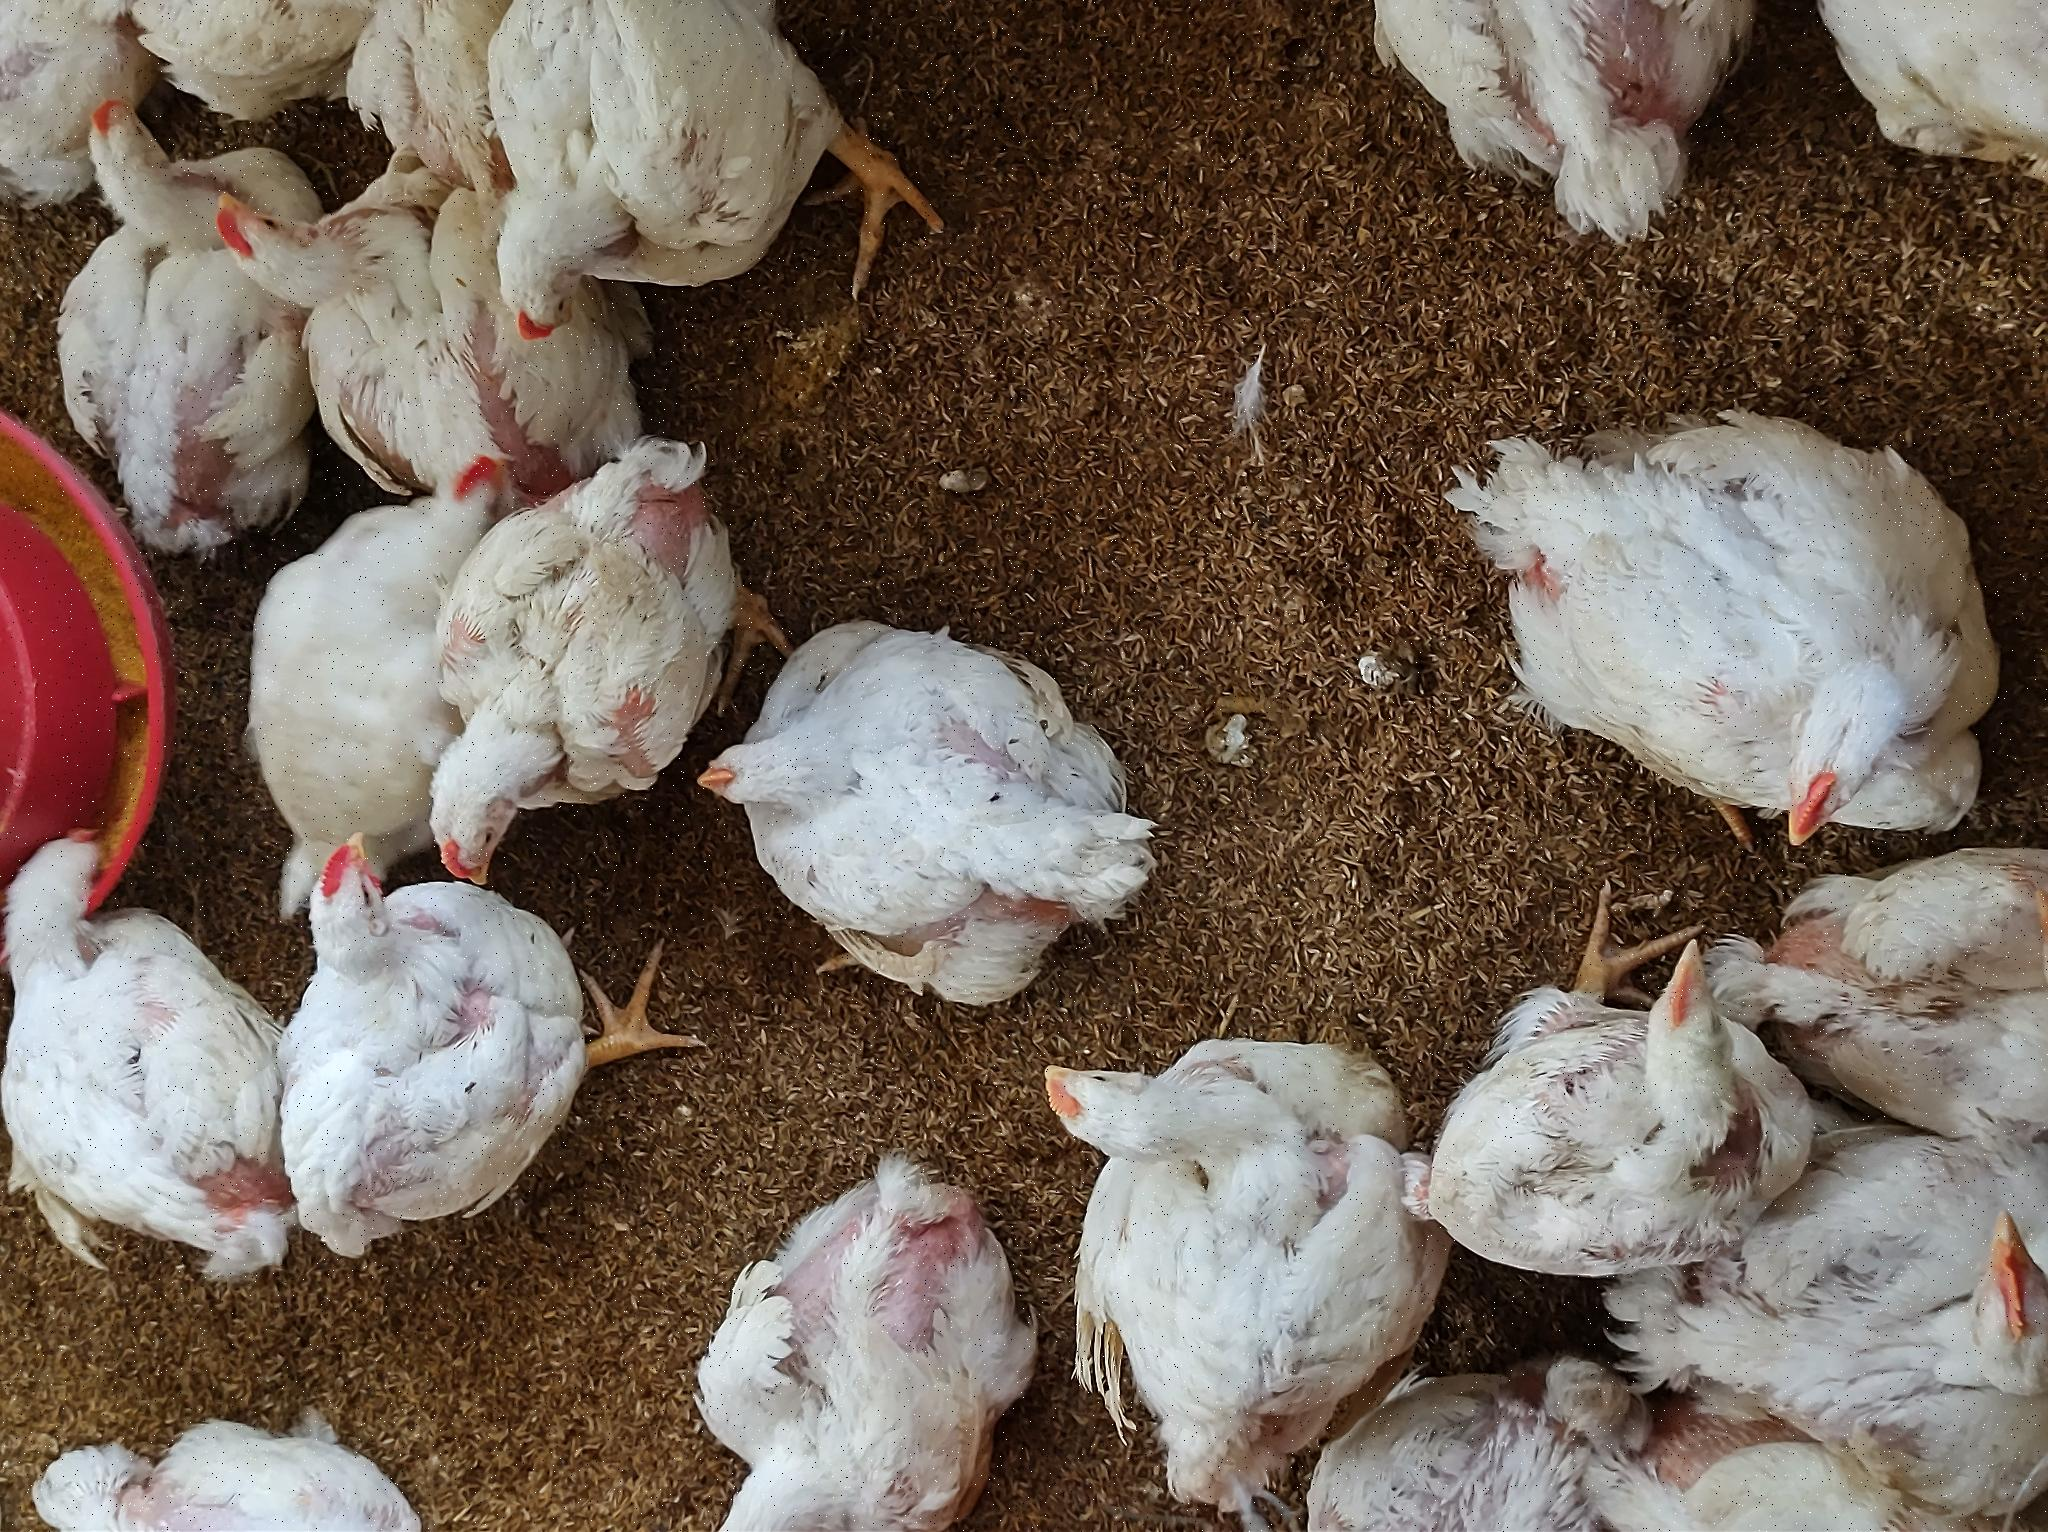Pollos: (492, 702, 956, 1155), (261, 261, 692, 682), (1176, 451, 1533, 953), (31, 1048, 507, 1415), (2, 702, 422, 1020), (246, 6, 708, 293), (632, 428, 981, 764), (1059, 47, 1454, 311), (1054, 217, 1350, 504), (2, 14, 125, 451), (1311, 1329, 1533, 1532), (2, 1308, 182, 1532), (246, 1432, 635, 1532), (952, 369, 1091, 554)
